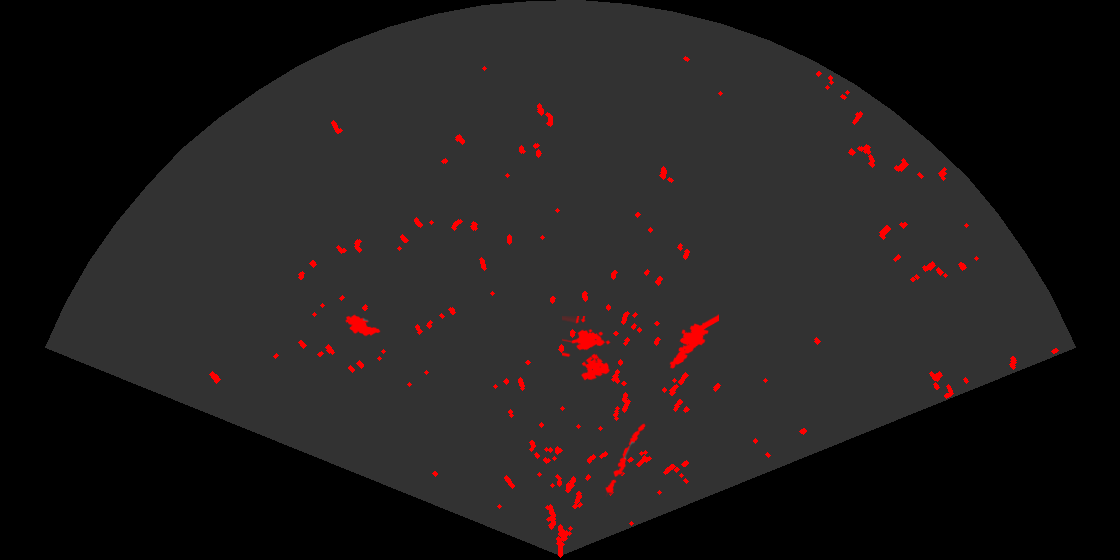AUV: (344, 313, 382, 338)
cage: (562, 316, 612, 382)
chain: (604, 422, 647, 497)
frogman: (668, 314, 719, 370)
